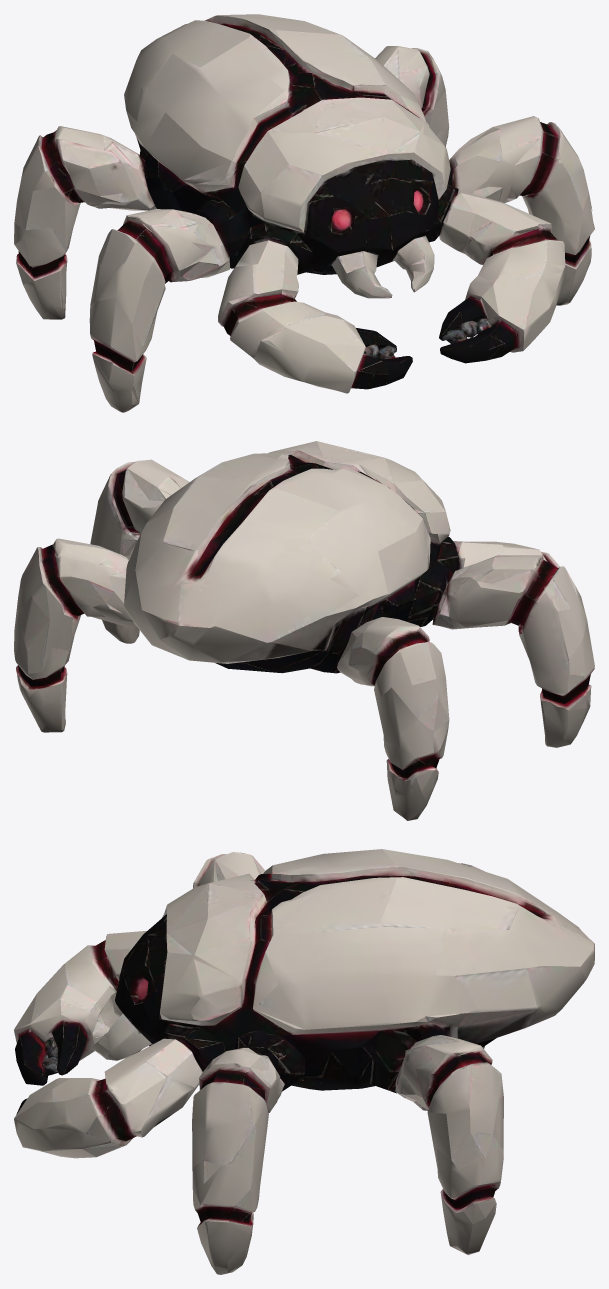
The model's file is spider.glb.
The picture shows the model from 3 angles, top to bottom: view 1: azimuth 30°, elevation 25°; view 2: azimuth 150°, elevation 25°; view 3: azimuth 270°, elevation 25°; orthographic projection. The views are drawn at different scales.
Parts seen in each view (by area): view 1: mesh_node; view 2: mesh_node; view 3: mesh_node.
Boxes of the visible parts, x1,y1,x2,y2 form: mesh_node: (14,14,594,412); mesh_node: (14,441,594,820); mesh_node: (14,849,594,1274).
Bounding box in the file's own units: 1.9 × 0.9744 × 1.79.
Materials: 1 (1 with a texture image).
